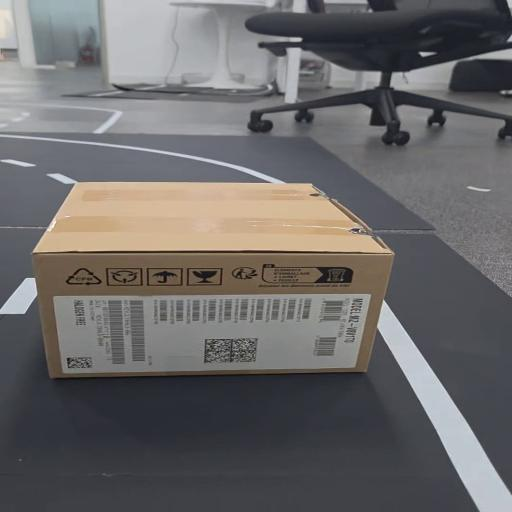Box: (27, 180, 411, 378)
